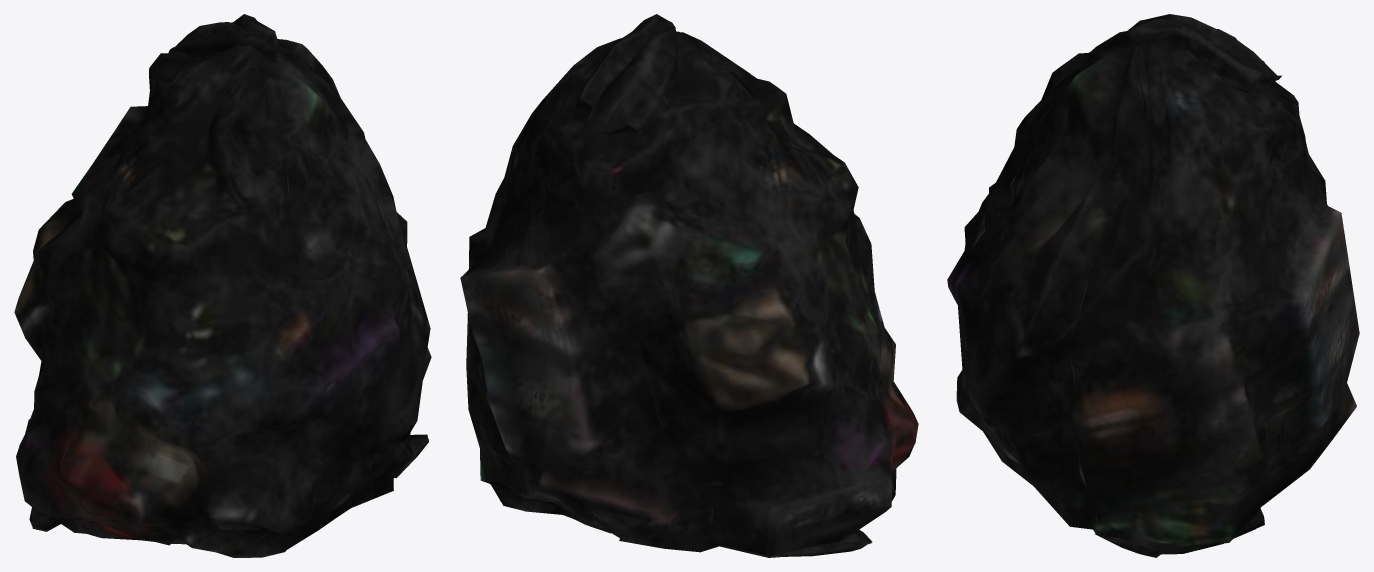
File: ph_trashbag.glb
3 renders of one model, left to right at view 1: azimuth 30°, elevation 25°; view 2: azimuth 150°, elevation 25°; view 3: azimuth 270°, elevation 25°, orthographic. The views are drawn at different scales.
Parts seen in each view (by area): view 1: trashbag; view 2: trashbag; view 3: trashbag.
Part boxes in pixels (bbox=[...]): trashbag: bbox=[14, 14, 431, 557]; trashbag: bbox=[460, 14, 918, 557]; trashbag: bbox=[947, 14, 1359, 557].
Size of the model in its own units: 0.5246 by 0.5751 by 0.4637.
Materials: 1 (1 with a texture image).
